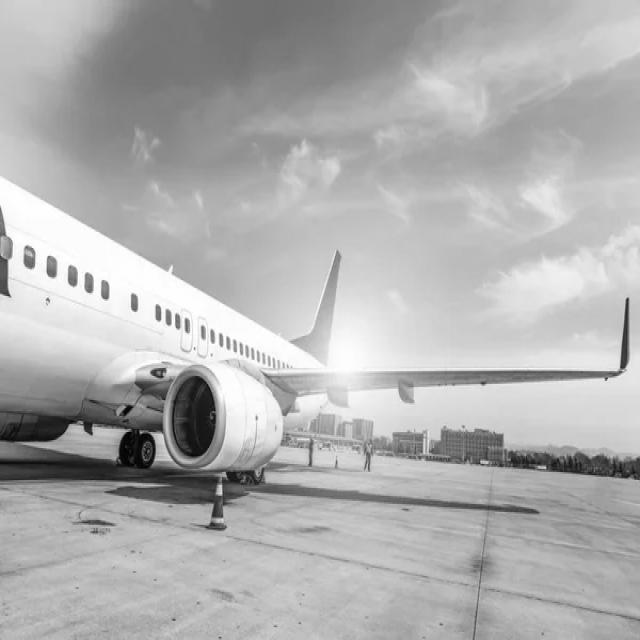Aircraft: (2, 165, 615, 486)
